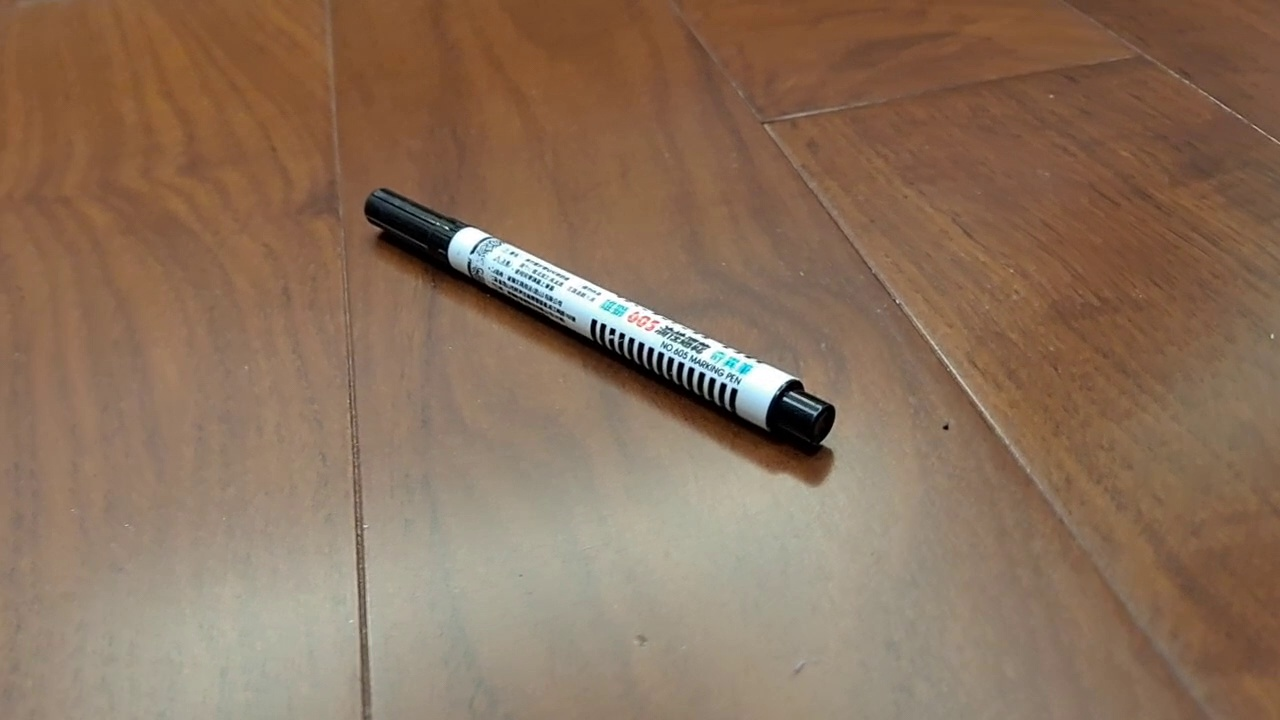pen: (364, 187, 836, 447)
